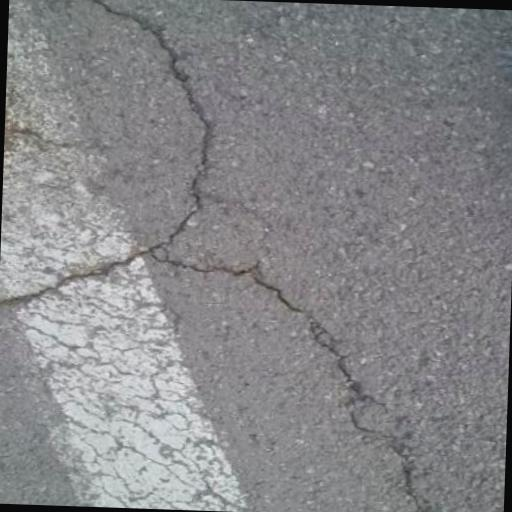spalling: (146, 240, 441, 512), (9, 0, 228, 322)
